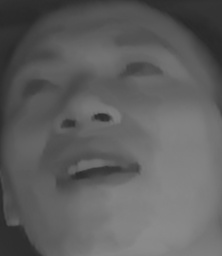eye: (114, 56, 166, 84), (17, 74, 62, 100)
mouth: (48, 143, 145, 197)
